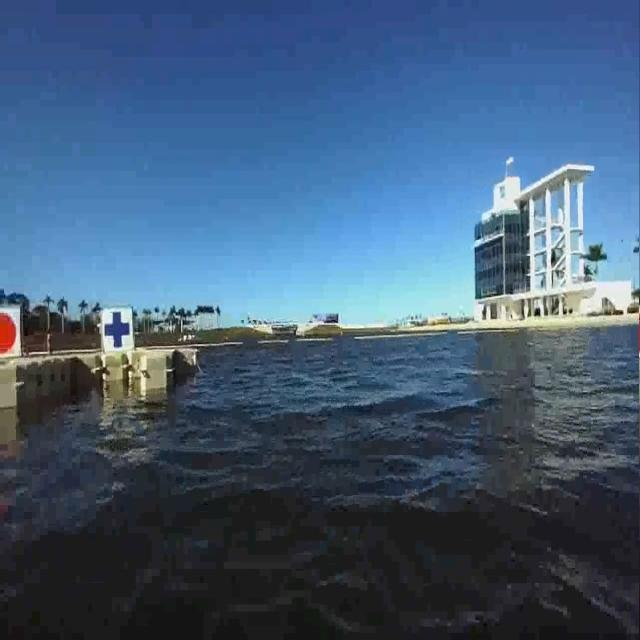blue-cross: (99, 304, 138, 356)
red-dot: (0, 300, 32, 359)
